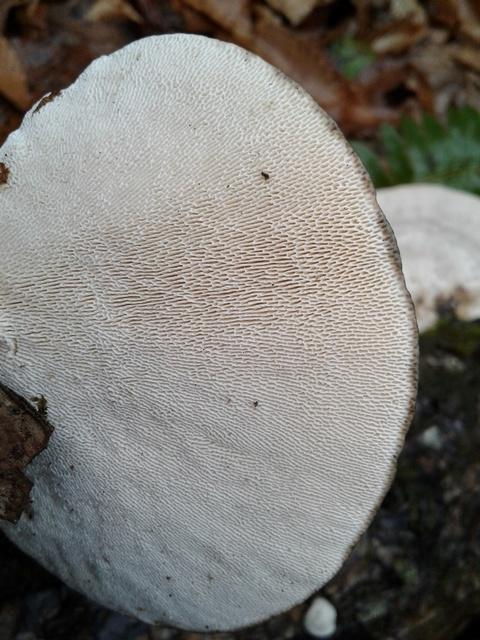Non-edible Mushroom: (0, 31, 421, 633)
